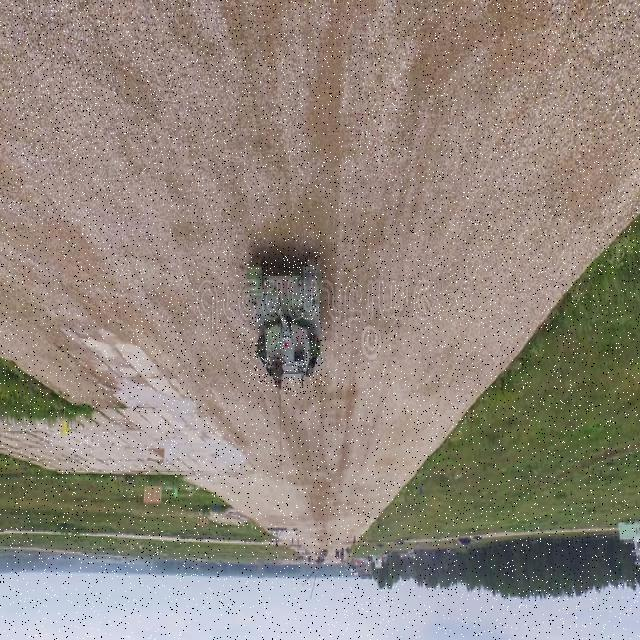MIL_MBT: (247, 252, 323, 394)
